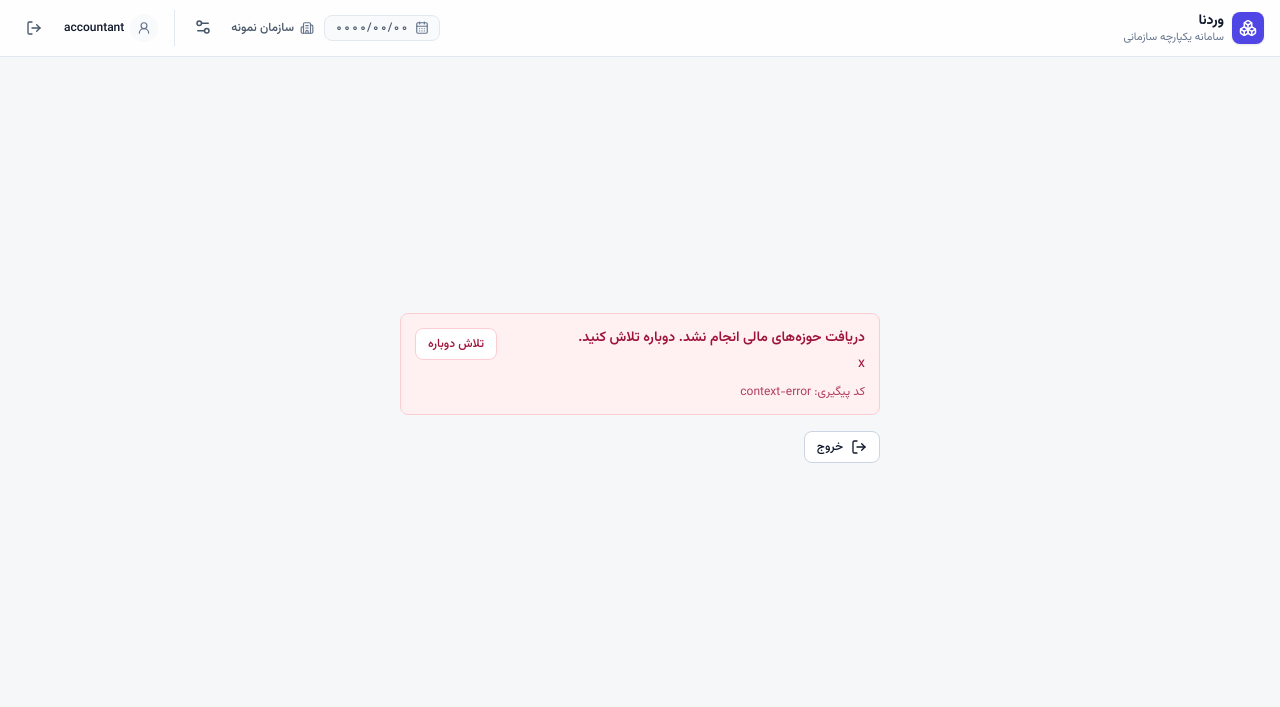
Test: financial workspace context gate › renders a retryable area error and recovers without entering a stale workspace
Check: the text "دریافت حوزه‌های مالی انجام نشد. دوباره تلاش کنید." is shown, box top-left (578, 328), bottom-right (865, 348)
Check: the heading "میزکار" is not shown
What coordinates should you click on to do the following:
click the button "تلاش دوباره"
I would click on:
 (456, 344)
Its box is top-left (415, 328), bottom-right (497, 360).
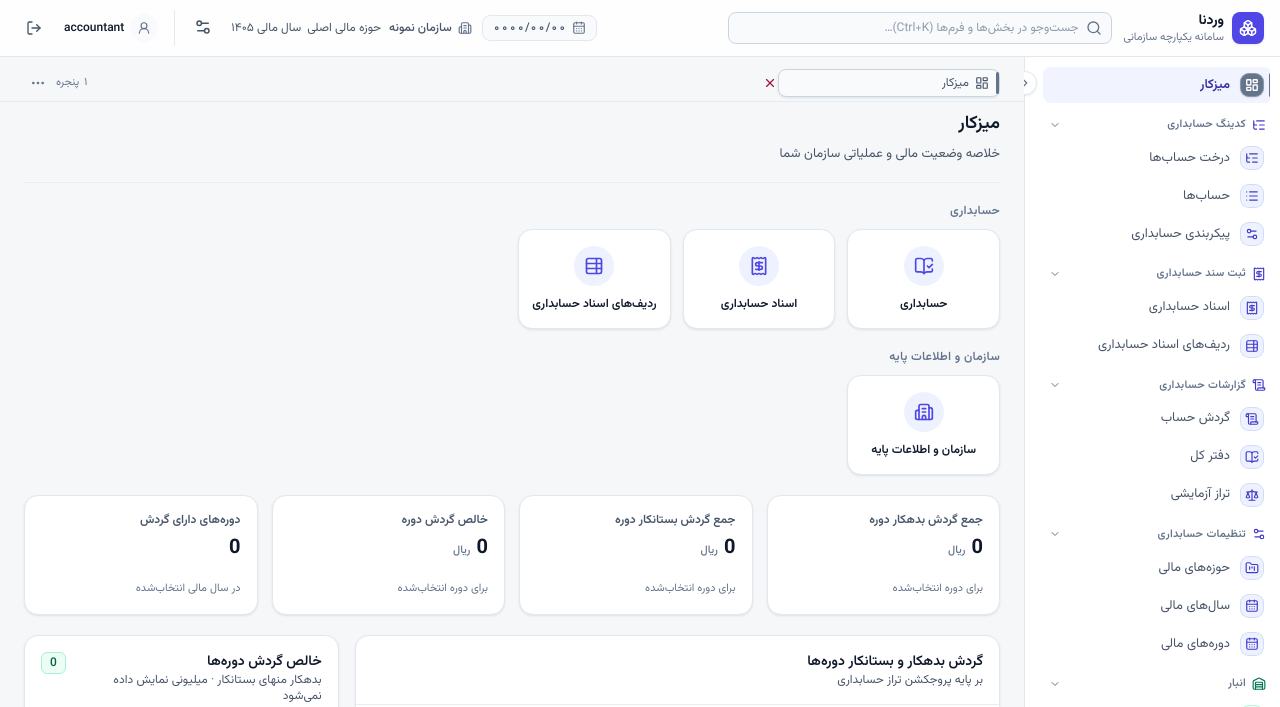
Check: the heading "میزکار" is shown, box top-left (958, 110), bottom-right (1000, 138)
